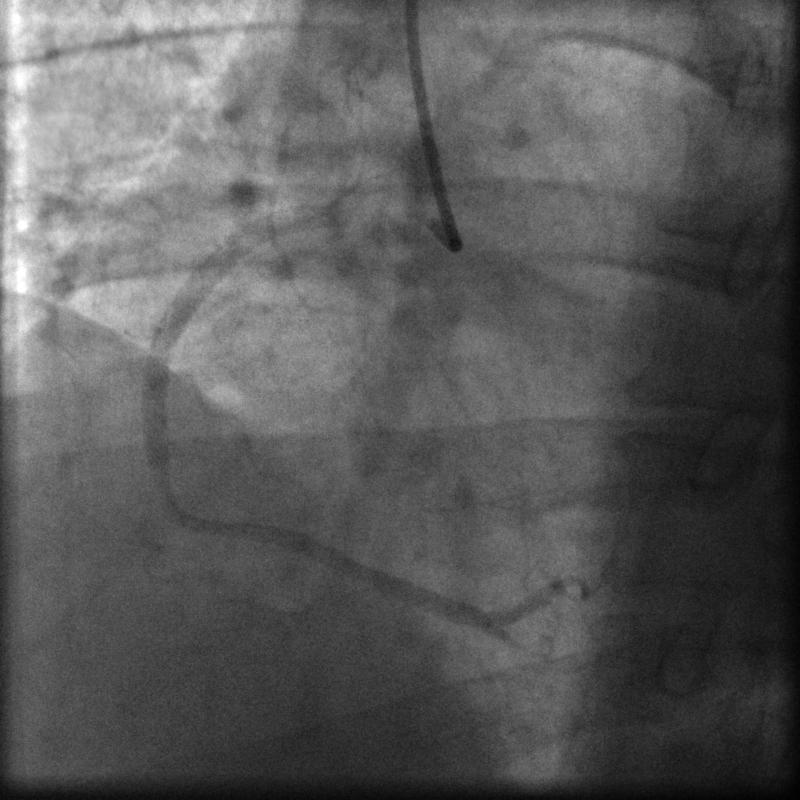Stenosis: (146, 444, 182, 514)
